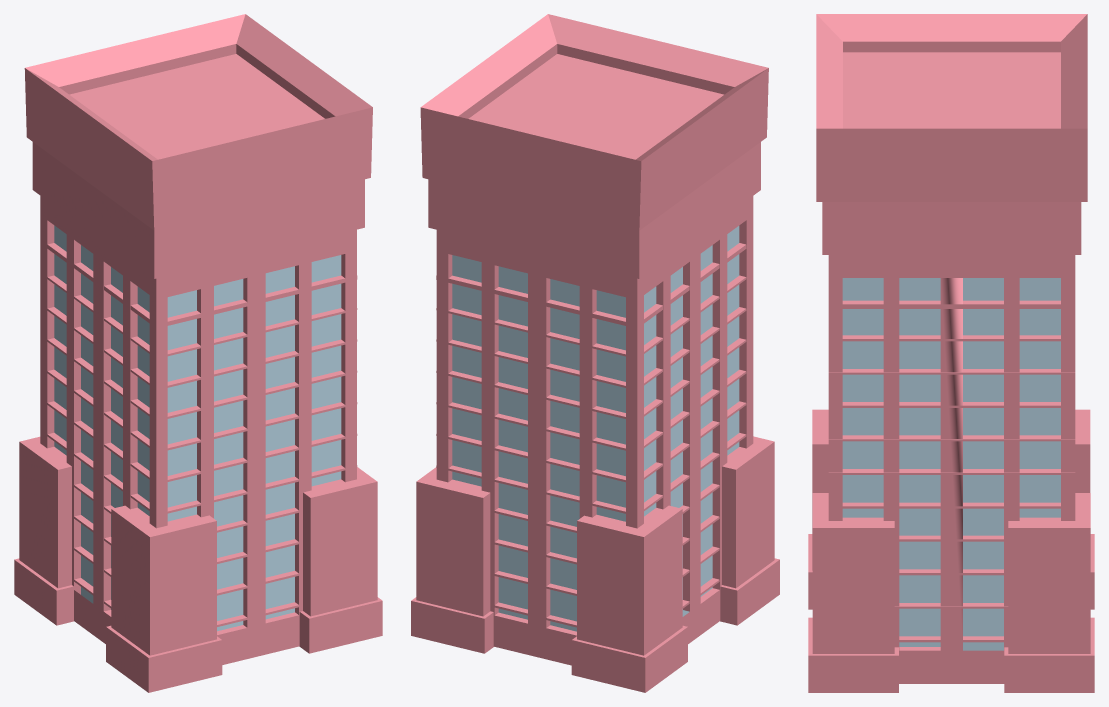
The model's file is building10.glb.
3 renders of one model, left to right at view 1: azimuth 30°, elevation 25°; view 2: azimuth 150°, elevation 25°; view 3: azimuth 270°, elevation 25°, orthographic. The views are drawn at different scales.
Visible parts, largest first — view 1: Cube_169_10; view 2: Cube_169_10; view 3: Cube_169_10.
Boxes of the visible parts, bbox=[...] form: Cube_169_10: bbox=[14, 14, 382, 692]; Cube_169_10: bbox=[411, 14, 779, 692]; Cube_169_10: bbox=[808, 14, 1094, 692].
Size of the model in its own units: 2.23 by 4.81 by 2.22.
